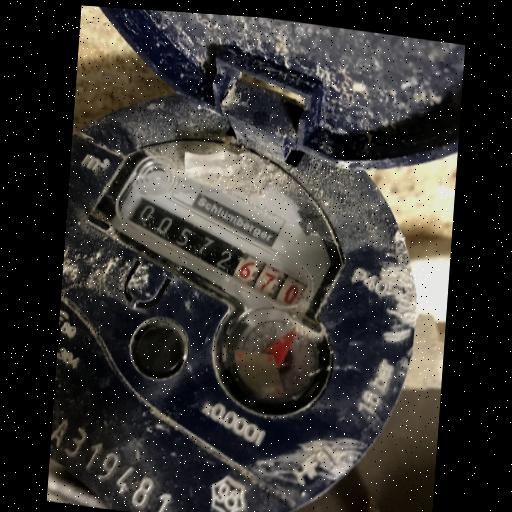0: (275, 273, 308, 313), (131, 195, 162, 232), (150, 207, 181, 243)
2: (210, 238, 241, 276)
5: (169, 217, 200, 254)
6: (231, 251, 263, 289)
7: (250, 260, 287, 304), (190, 228, 220, 265)
border_water_meter_number: (103, 169, 327, 324)
